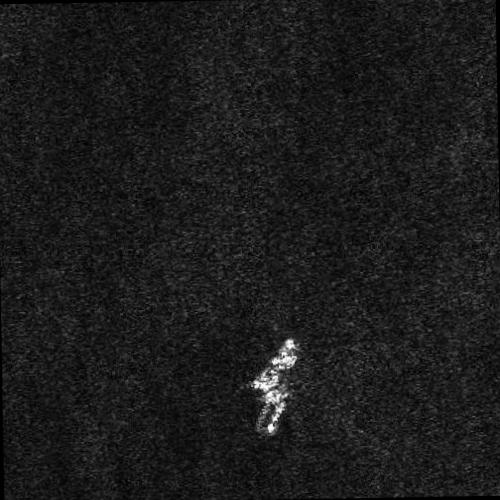ship: (252, 339, 298, 394), (256, 385, 291, 439)
